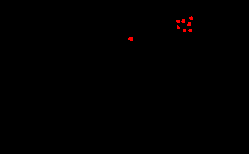Target: (128, 37, 133, 41), (189, 16, 193, 20), (181, 19, 185, 23), (187, 22, 191, 26), (176, 20, 180, 23), (177, 25, 180, 29), (188, 29, 192, 32), (183, 29, 186, 32)
